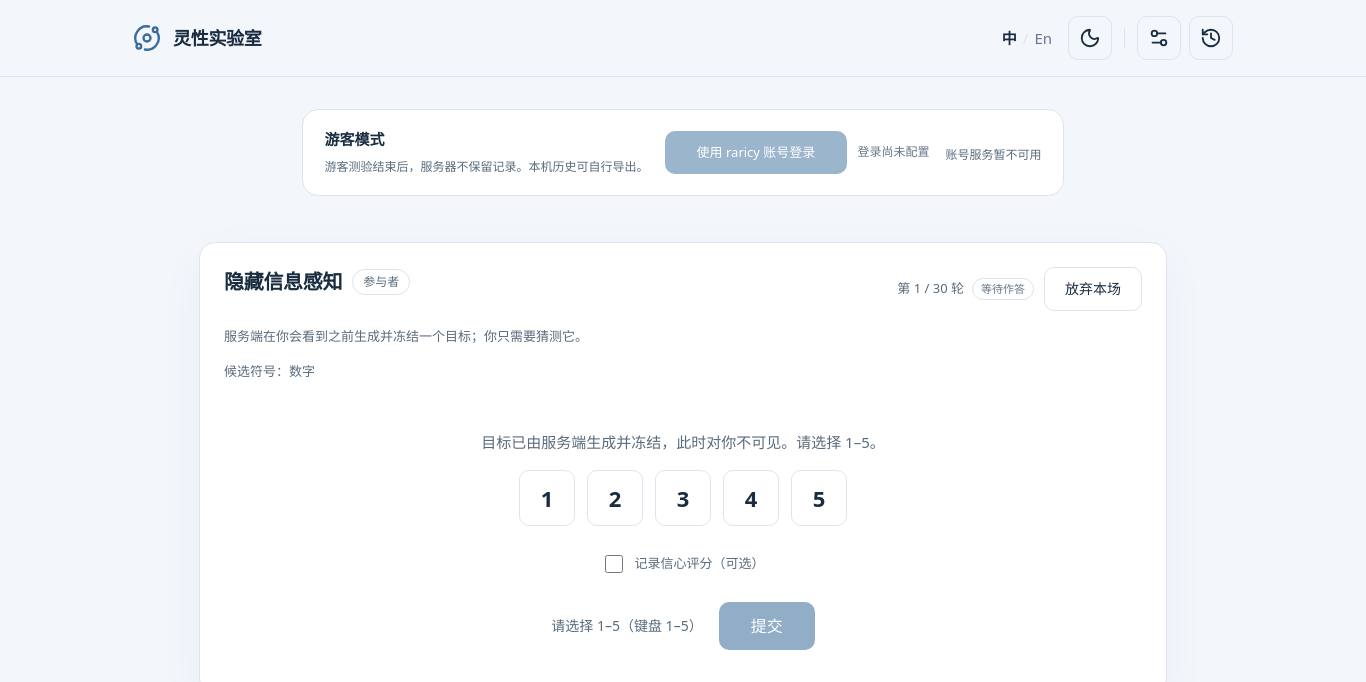
Test: refresh restore and terminal handling › abandons explicitly: clears credentials and stores the terminal snapshot
This screenshot has width=1366, height=682.
Expected: the radio button labelled "1" is shown, [519,470,575,526]
What coordinates should you click on to do the following:
click the button "放弃本场"
I would click on:
 (1093, 289)
Its box is [1044,267,1142,311].
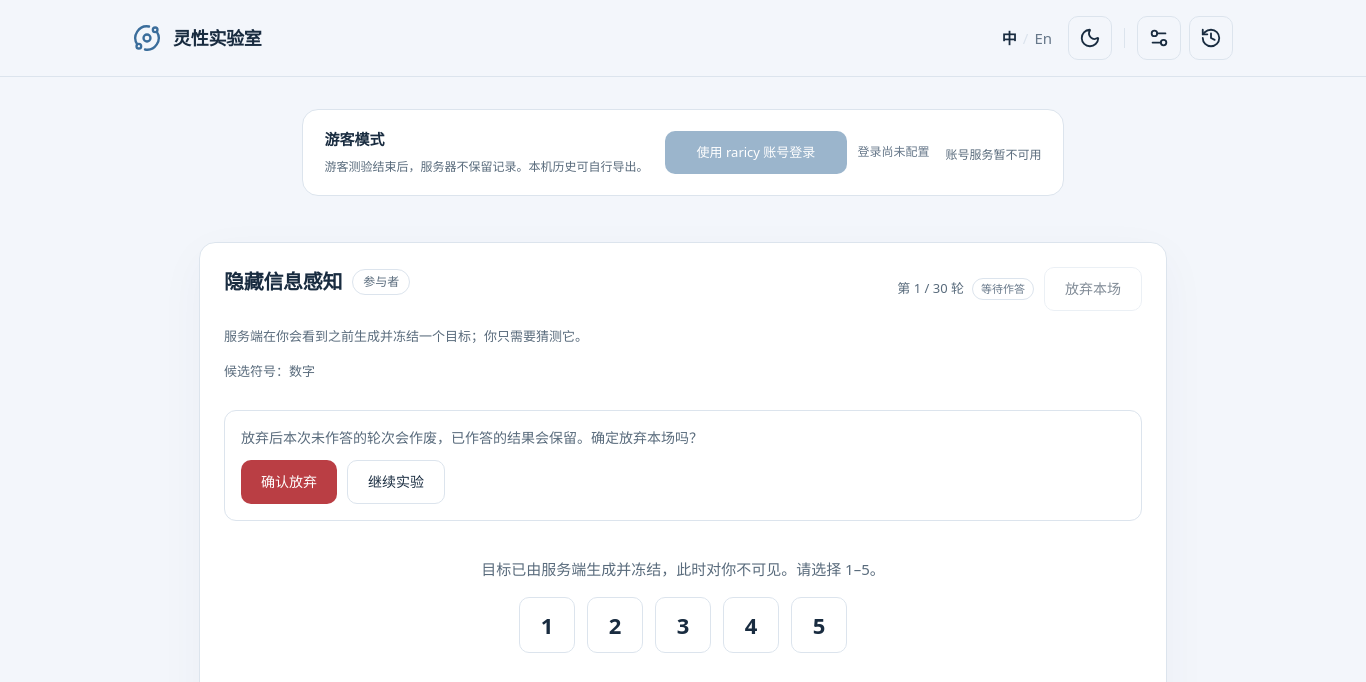
What coordinates should you click on to do the following:
click the button "确认放弃"
I would click on:
 (289, 482)
Its box is [241,460,337,504].
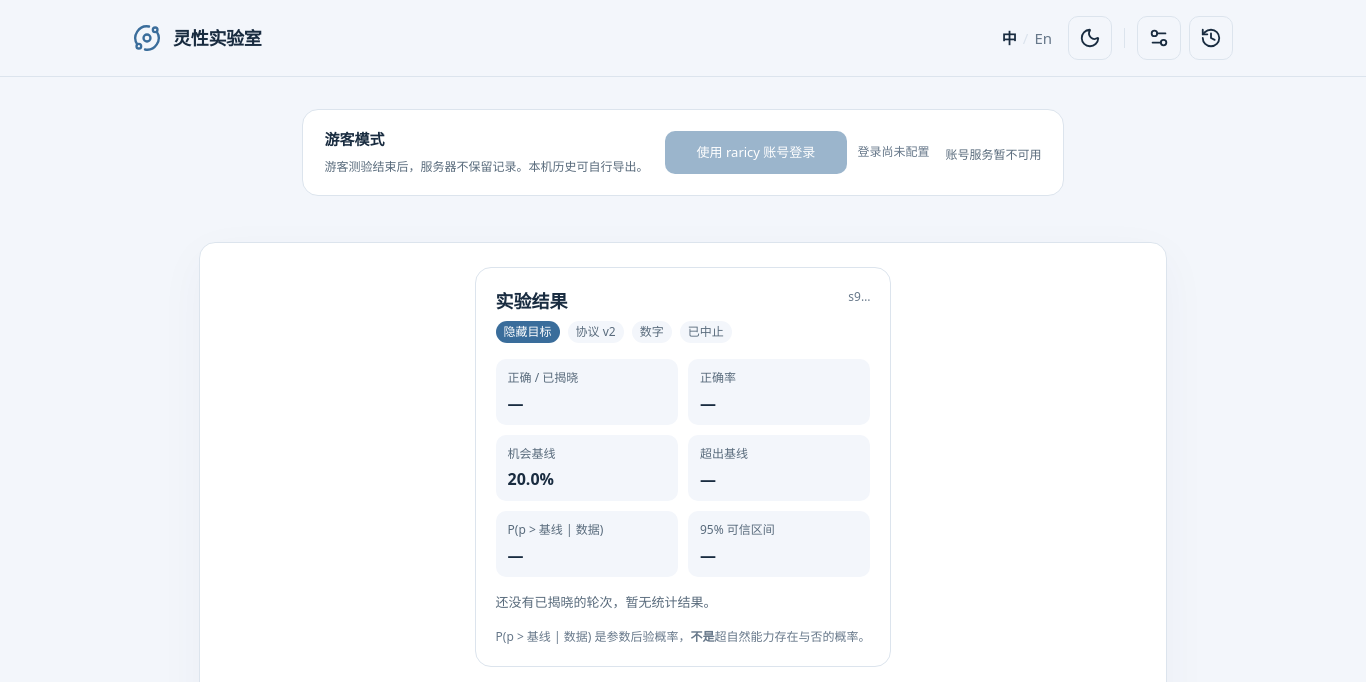
Now the heading "实验结果" is shown, box [496,289,568,313]
